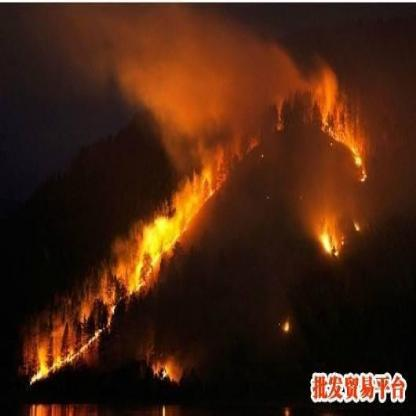fire: (3, 207, 144, 384), (315, 76, 382, 264), (146, 155, 222, 264), (120, 340, 204, 394), (274, 308, 303, 340), (260, 186, 276, 214), (292, 184, 305, 202), (254, 148, 266, 160)
smoke: (114, 8, 301, 135)
